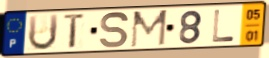8: (178, 9, 203, 46)
L: (211, 9, 236, 44)
M: (129, 8, 169, 49)
S: (98, 10, 131, 50)
T: (62, 12, 88, 51)
U: (26, 13, 60, 52)
